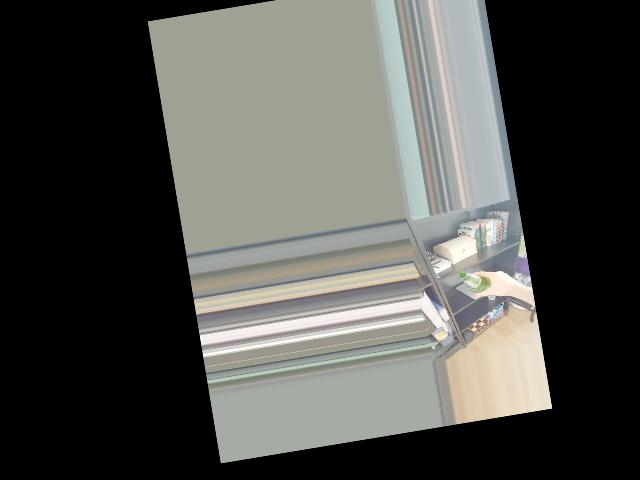beer: (457, 267, 495, 301)
